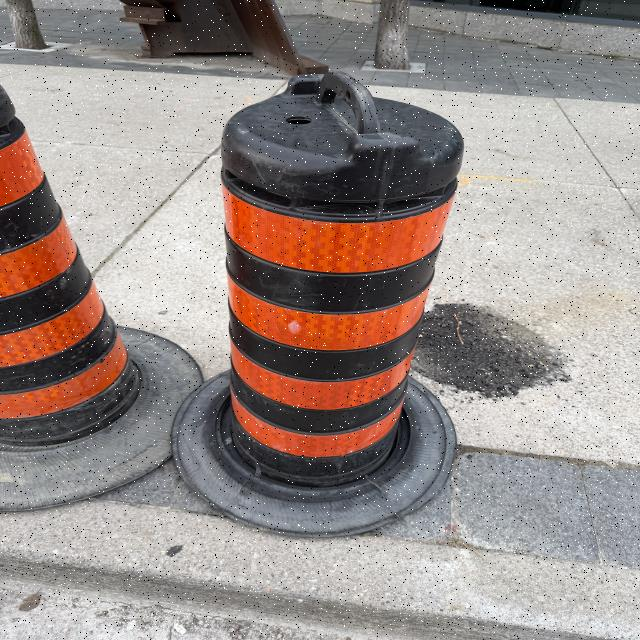Teraffic Barrel: (174, 72, 463, 536), (0, 88, 202, 510)
